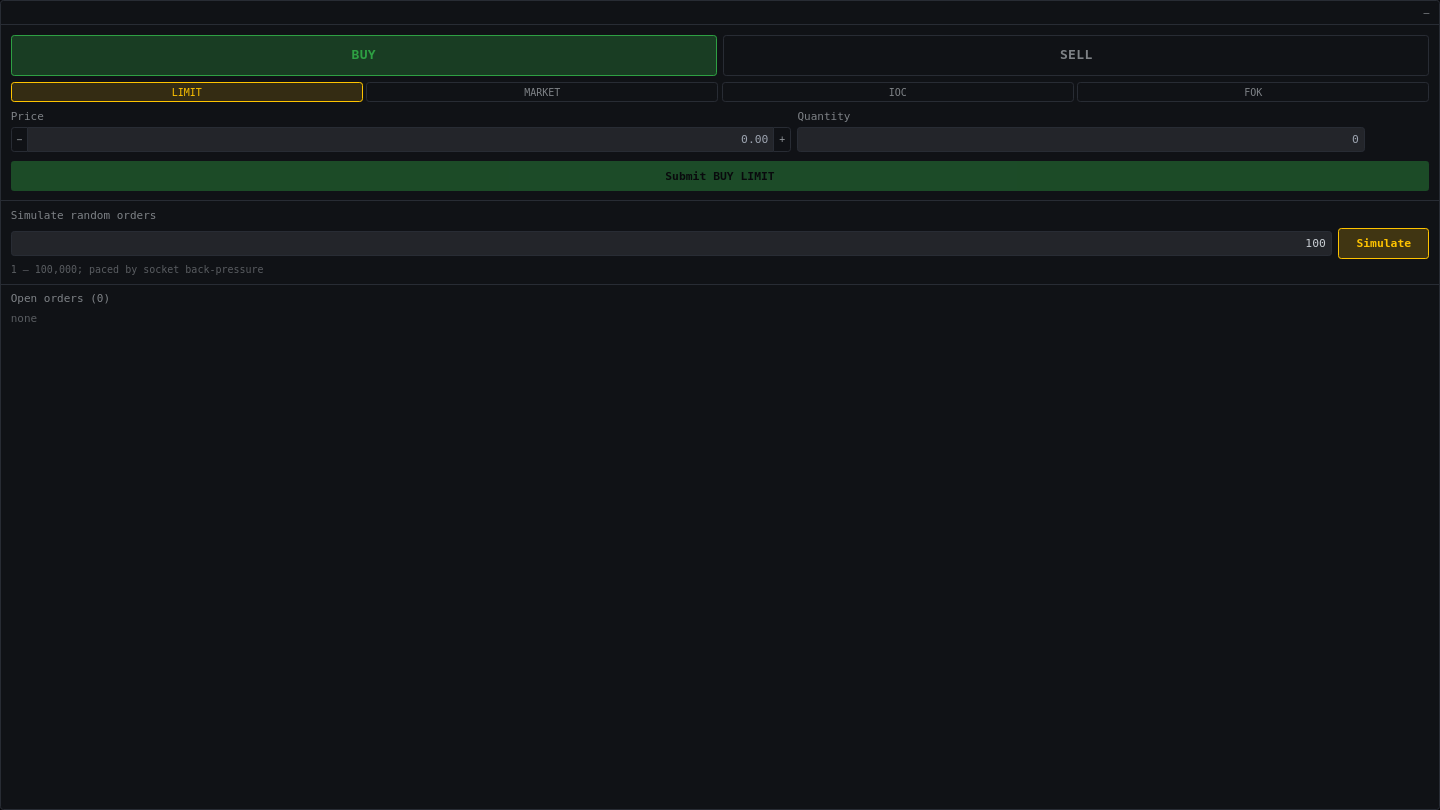
it: OrderEntry › MARKET disables the price input
This screenshot has width=1440, height=810.
What coordinates should you click on to do the following:
click the button "MARKET"
I would click on:
 (542, 92)
Its box is [366, 82, 718, 102].
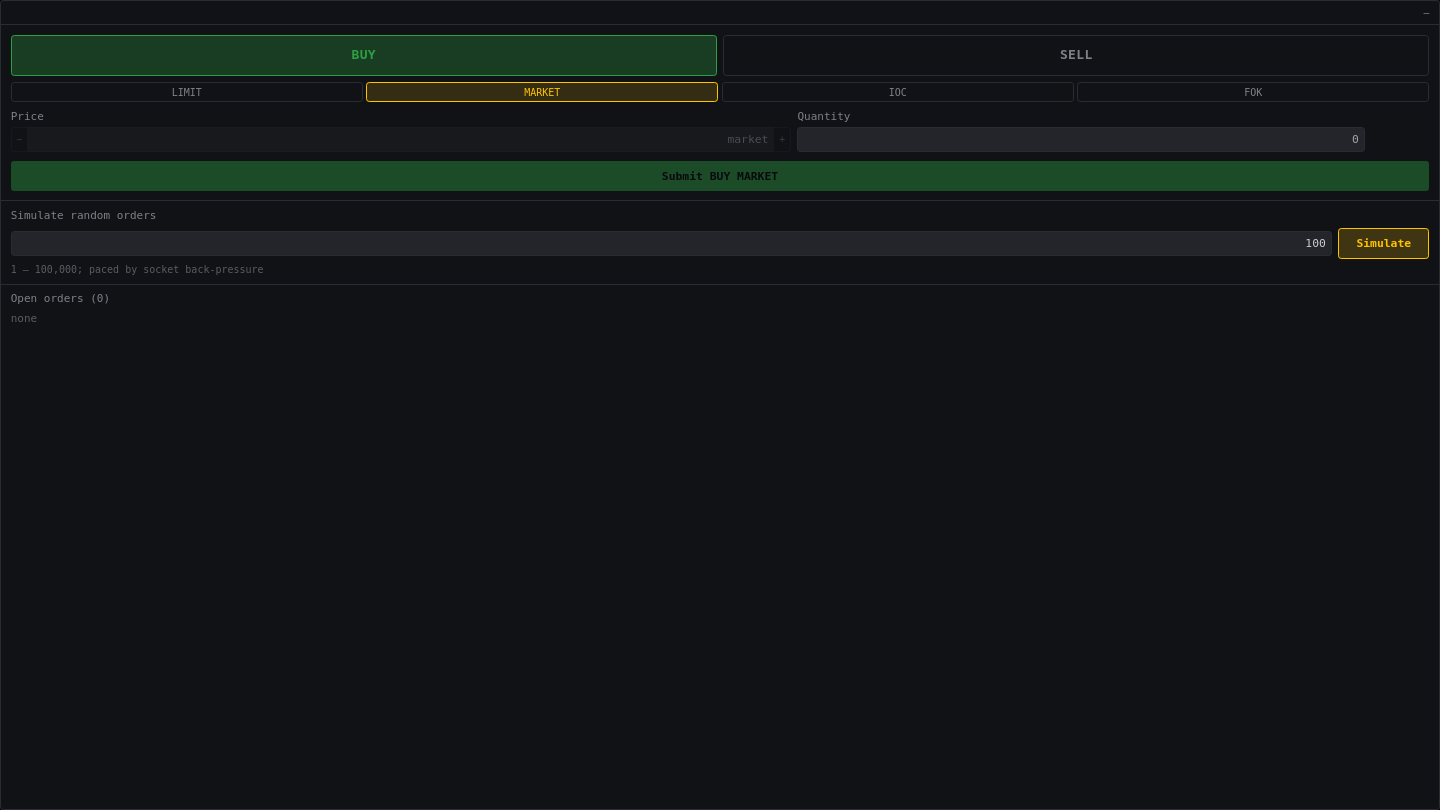
Expected: the field with placeholder "market" is disabled, [28, 127, 773, 152]
